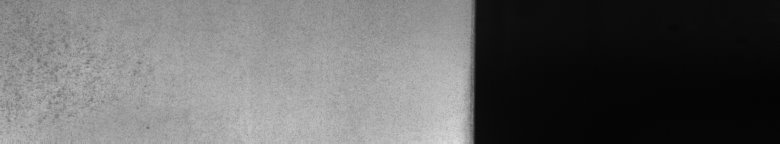ib: (5, 40, 141, 123)
